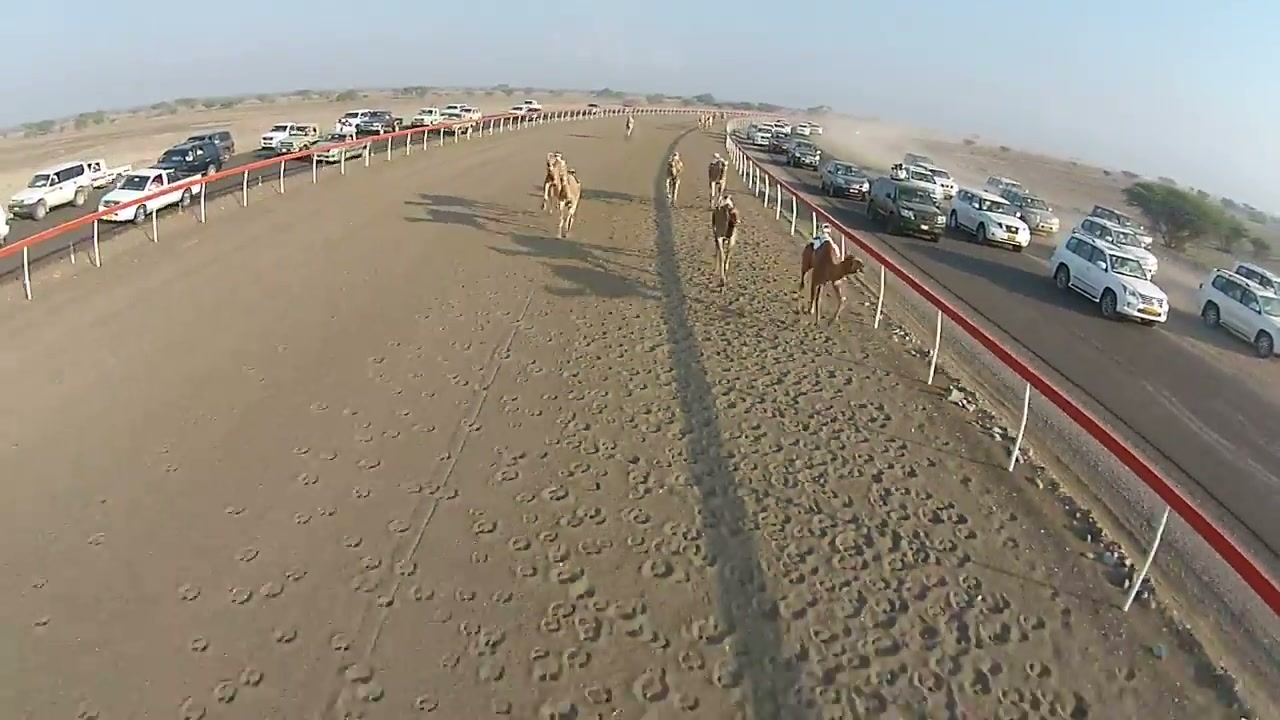animal_foot_print: (14, 124, 1238, 719), (607, 200, 1233, 717), (370, 297, 766, 717)
